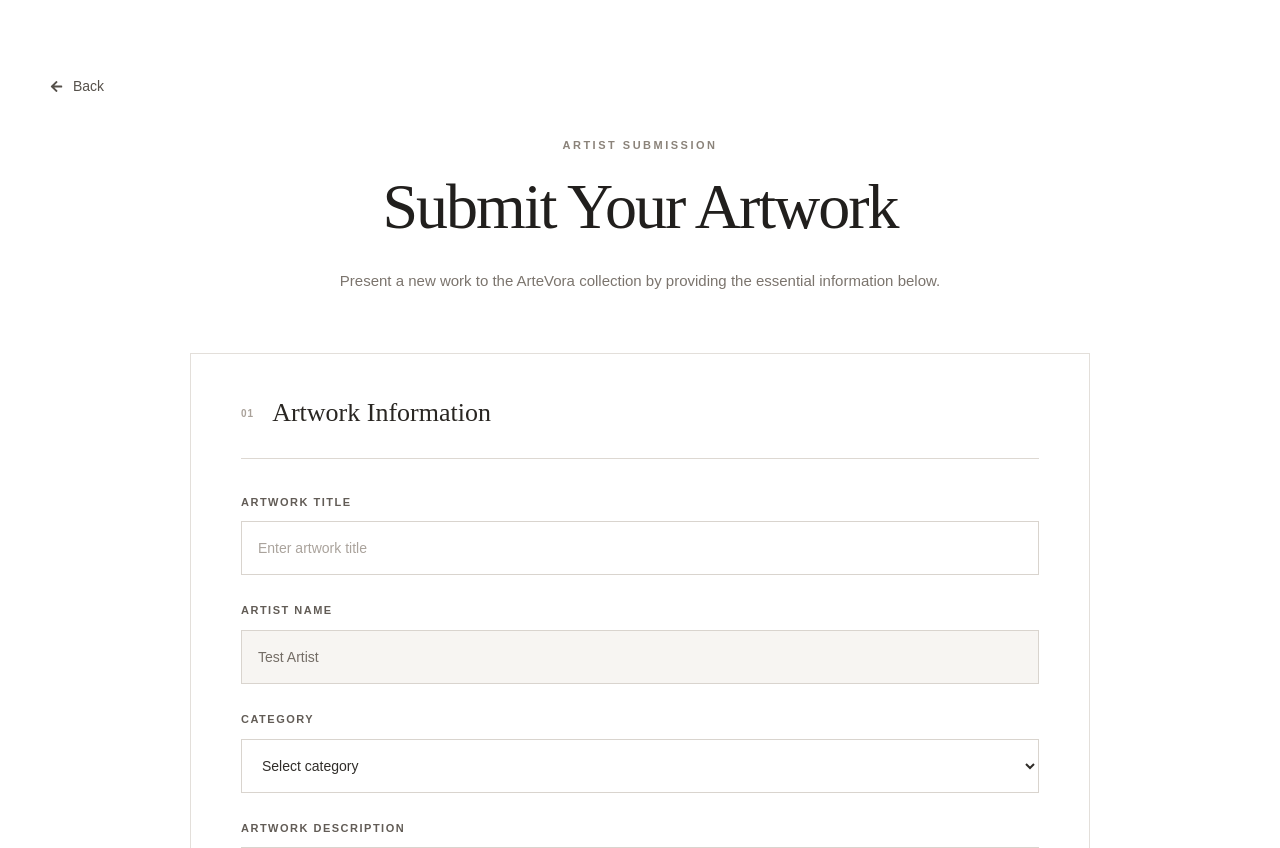
Test case: Login page › should show validation error when artwork category is empty
In the field labelled "Artwork Title": coordinates (640, 548) [241,522,1039,576], type "Test Artwork"
(page scrolled)
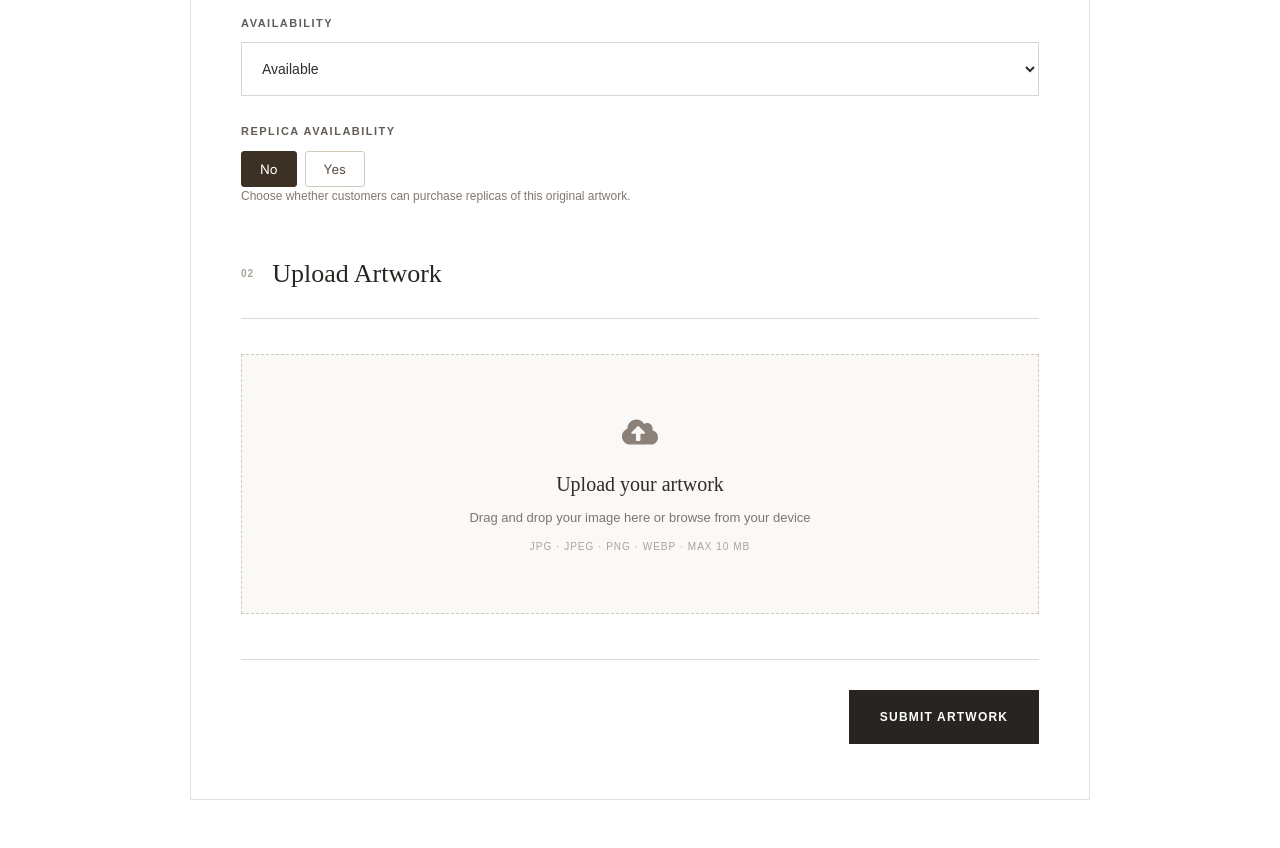
Click the button "Submit Artwork": coordinates (944, 717) [849,690,1039,744]
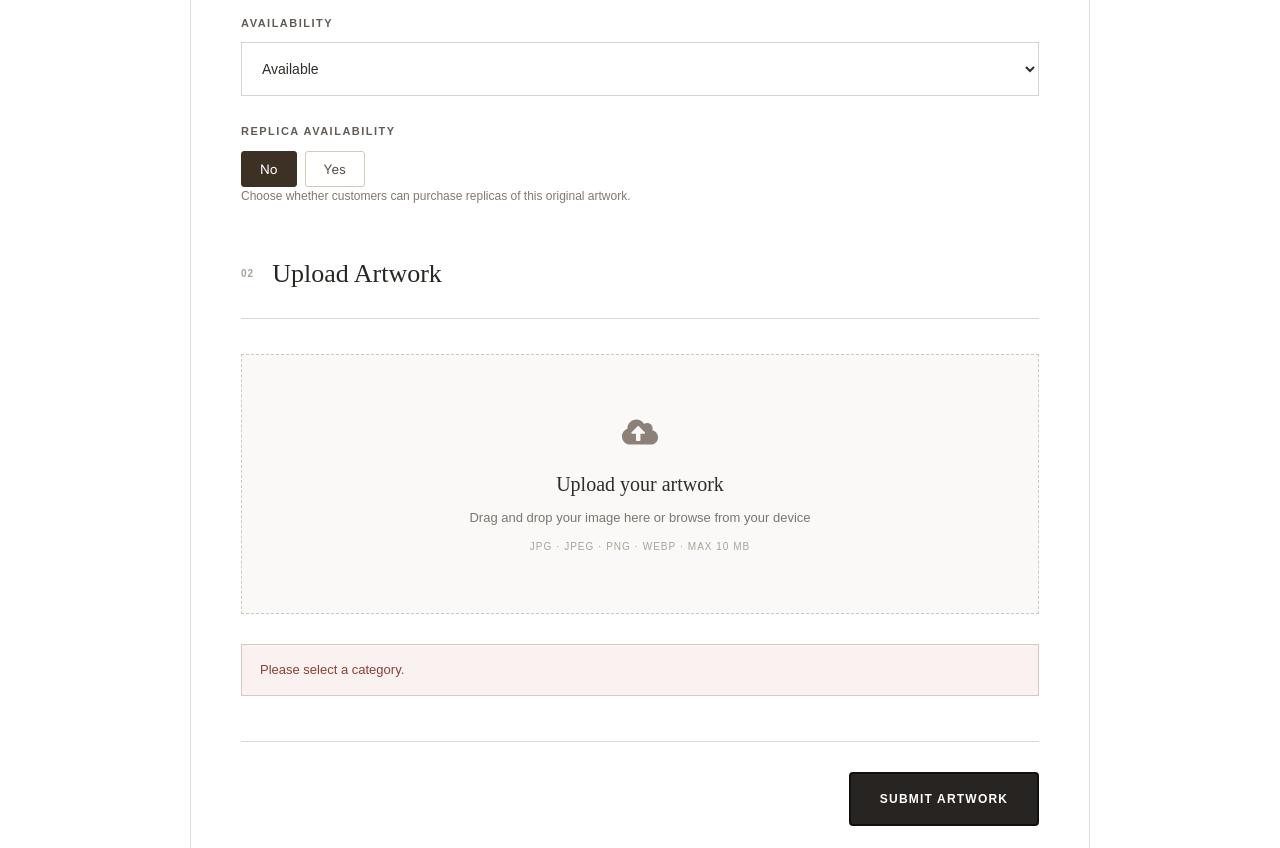
Expected: the text "Please select a category." is shown, [241,644,1039,696]
